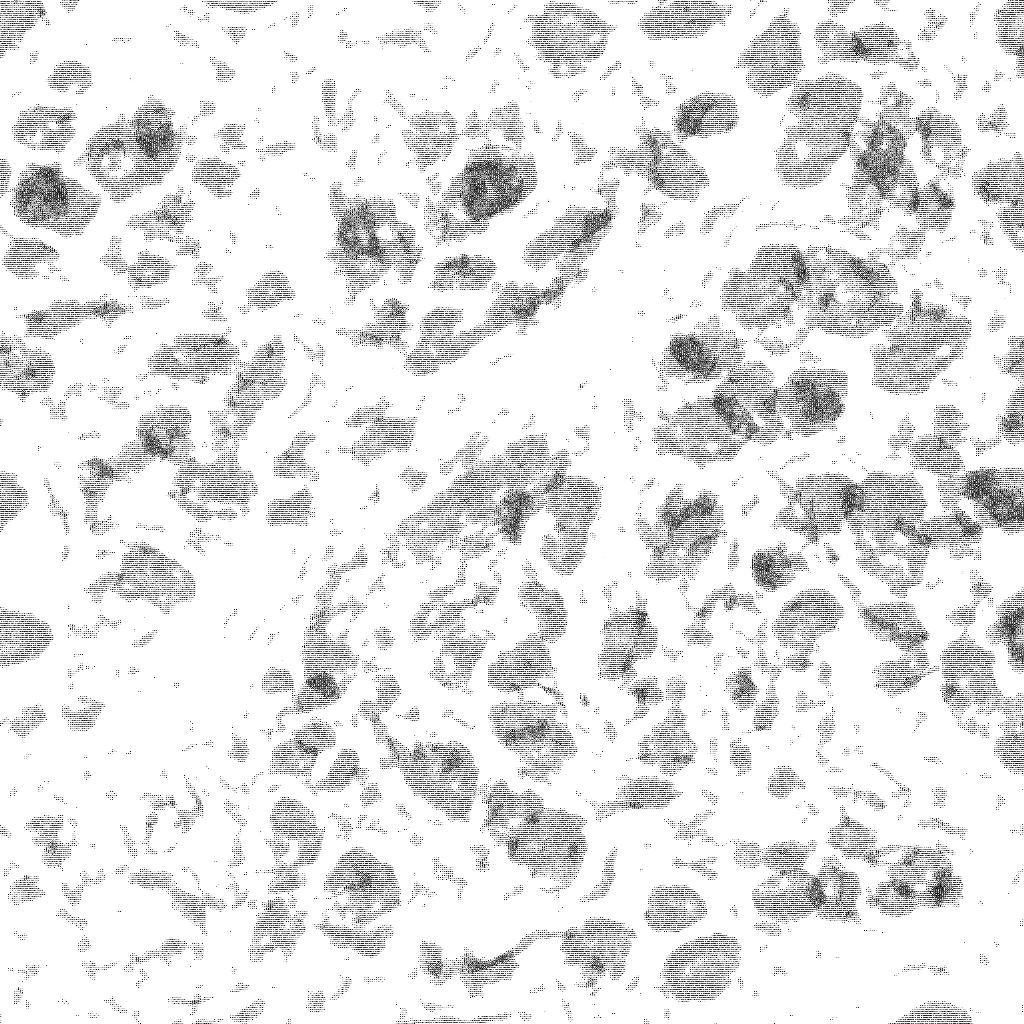axone: (412, 123, 547, 246), (318, 177, 426, 306), (794, 234, 907, 345), (78, 99, 189, 208), (770, 69, 869, 188), (865, 292, 975, 399), (717, 235, 817, 351), (627, 477, 728, 582), (858, 837, 970, 925), (603, 124, 714, 212), (502, 799, 595, 901), (481, 695, 583, 788), (380, 732, 479, 827), (644, 395, 770, 467), (843, 110, 924, 218), (762, 361, 860, 449), (526, 473, 608, 578), (846, 466, 933, 561), (707, 358, 793, 453), (728, 7, 813, 103), (774, 465, 865, 551), (4, 164, 106, 239), (105, 542, 201, 620), (526, 1, 614, 84), (559, 910, 646, 992), (656, 314, 748, 389), (261, 790, 329, 891), (657, 932, 745, 1010), (772, 584, 850, 671), (319, 845, 407, 922), (591, 600, 666, 684), (140, 327, 246, 386), (850, 591, 937, 662), (480, 629, 565, 699), (630, 704, 703, 780), (128, 398, 203, 469), (631, 1, 739, 49), (16, 295, 138, 336), (245, 889, 309, 967), (4, 95, 83, 158), (811, 853, 870, 936), (748, 864, 826, 925), (264, 716, 339, 779), (661, 84, 742, 140), (639, 880, 710, 938), (594, 771, 678, 819), (1, 230, 65, 288), (39, 56, 99, 101)
